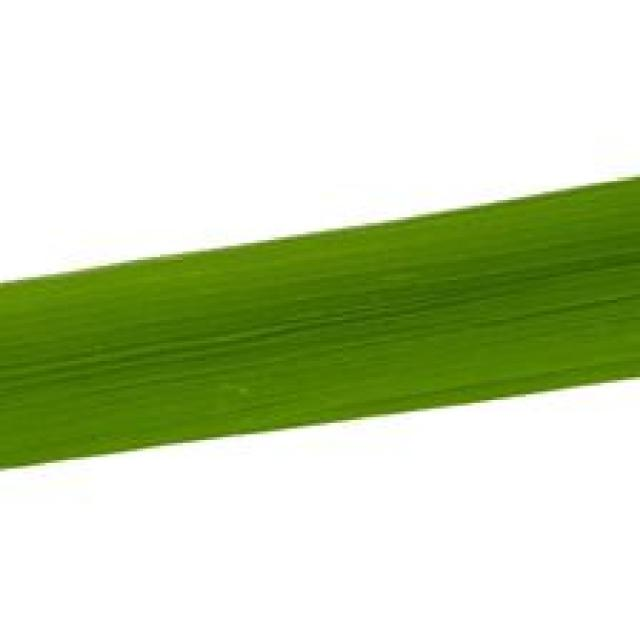Rice___Healthy_Rice_Plant: (0, 179, 637, 470)
